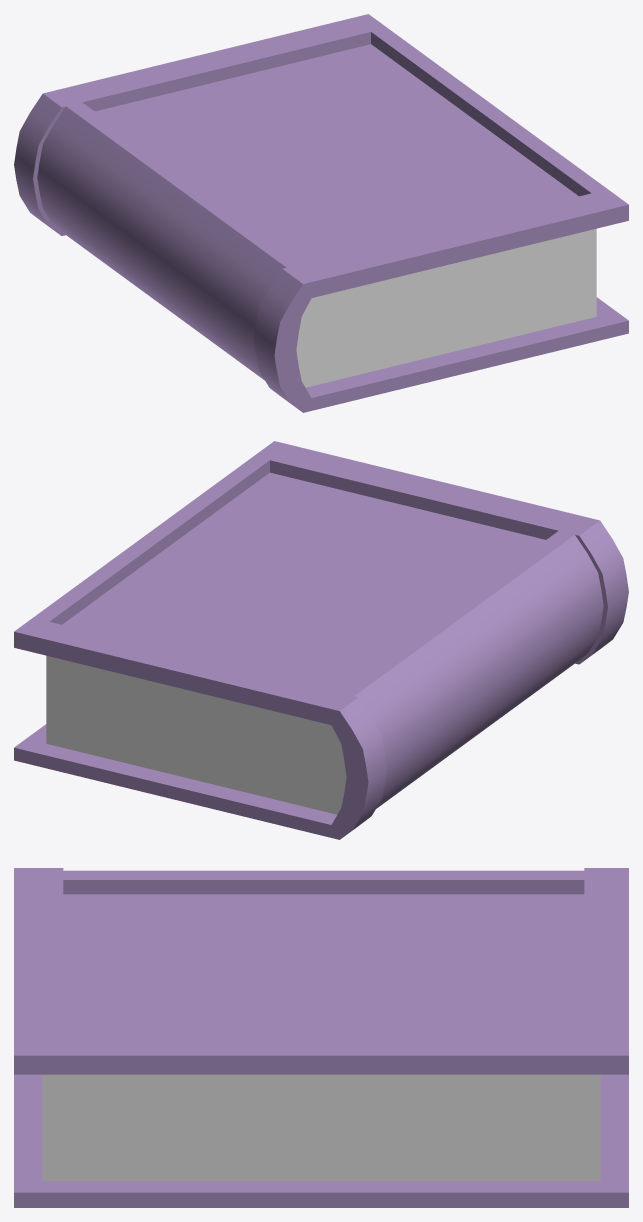
File: Book_3.fbx
3 views of the same model, one above another, from view 1: azimuth 30°, elevation 25°; view 2: azimuth 150°, elevation 25°; view 3: azimuth 270°, elevation 25° (orthographic). The views are drawn at different scales.
Parts seen in each view (by area): view 1: Book_3; view 2: Book_3; view 3: Book_3.
Boxes of the visible parts, x1,y1,x2,y2 form: Book_3: (14, 14, 628, 412); Book_3: (14, 441, 628, 839); Book_3: (14, 868, 628, 1207).
Bounding box in the file's own units: 74.87 × 26 × 95.27.
